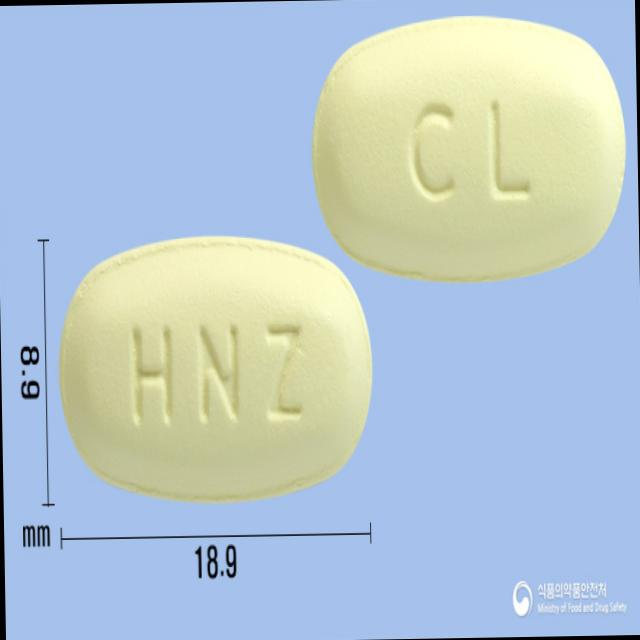Claniz: (51, 227, 382, 512), (309, 7, 631, 286)
